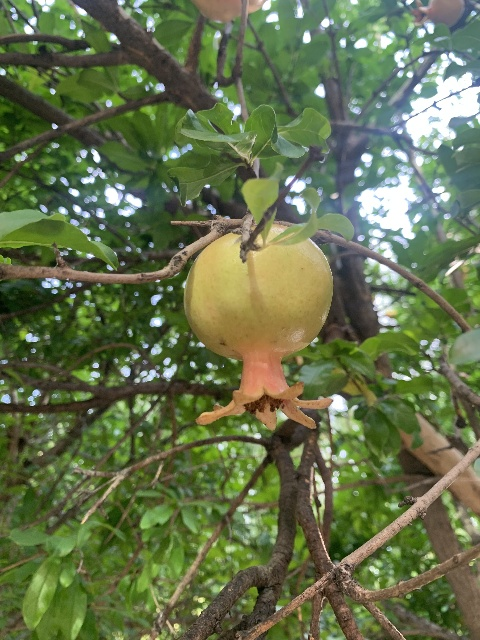bud: (410, 0, 464, 28)
mid-growth: (183, 223, 334, 433)
